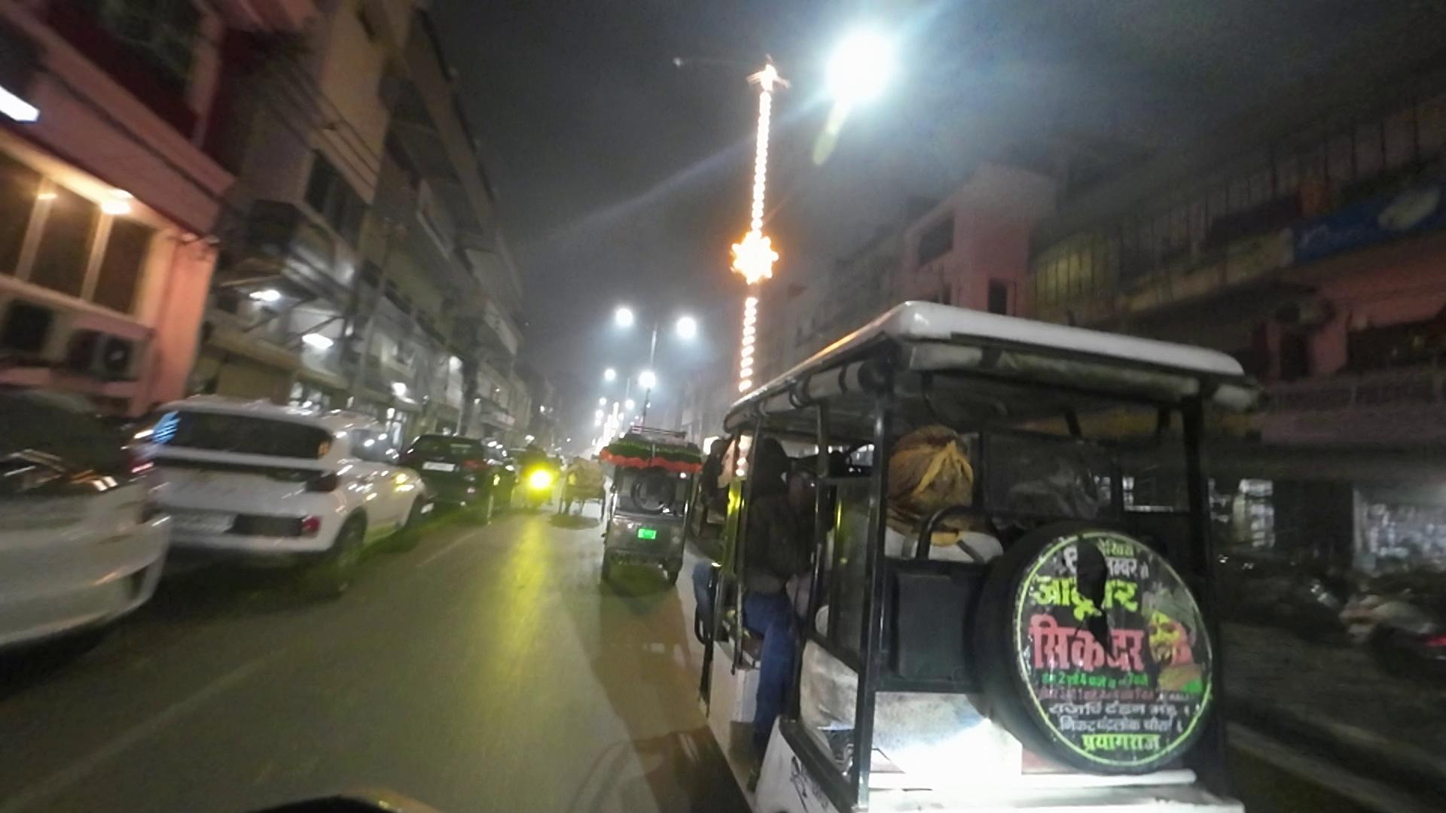streetlight: (670, 53, 747, 72)
